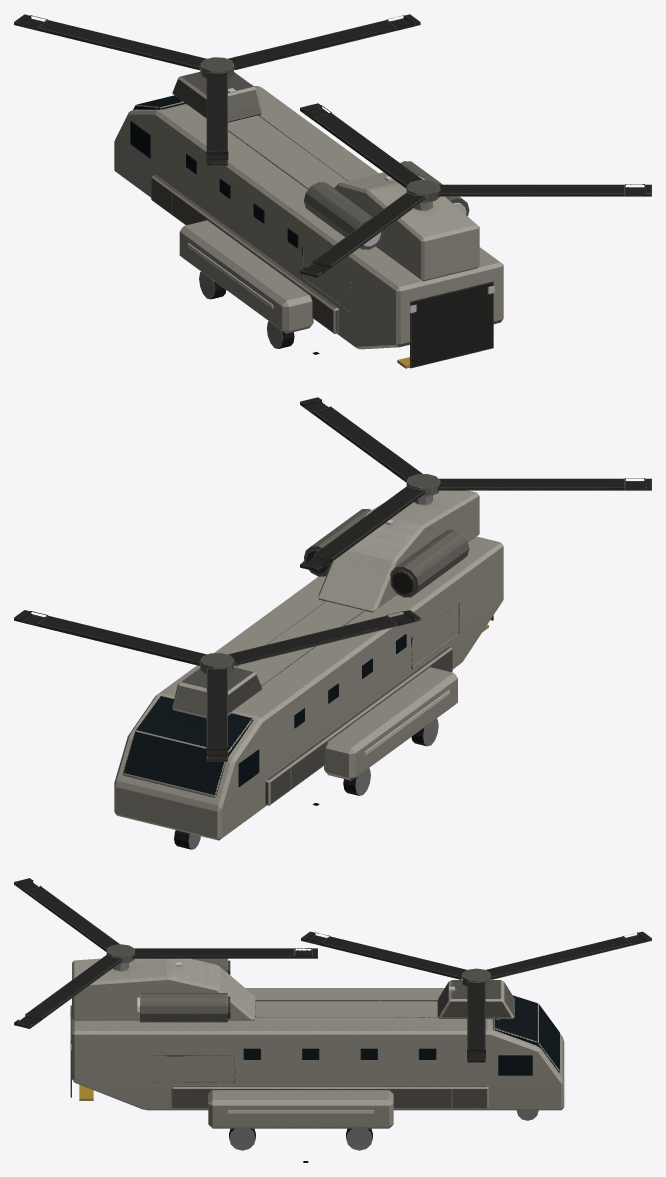
Rendered from ord_ark.fbx.
The picture shows the model from 3 angles, top to bottom: view 1: azimuth 30°, elevation 25°; view 2: azimuth 150°, elevation 25°; view 3: azimuth 270°, elevation 25°; orthographic projection. The views are drawn at different scales.
Visible parts, largest first — view 1: base_bar, tailRotor_bar, rotor_bar, base_glow_running_bar; view 2: base_bar, tailRotor_bar, rotor_bar; view 3: base_bar, tailRotor_bar, rotor_bar, base_glow_running_bar.
Boxes of the visible parts, box(x1,y1,x2,y2) form: base_bar: box(114, 71, 503, 368); tailRotor_bar: box(300, 103, 651, 277); rotor_bar: box(14, 14, 420, 165); base_glow_running_bar: box(187, 88, 494, 312); base_bar: box(114, 490, 503, 849); tailRotor_bar: box(300, 397, 651, 571); rotor_bar: box(14, 610, 420, 761); base_bar: box(70, 958, 564, 1150); tailRotor_bar: box(14, 878, 317, 1028); rotor_bar: box(301, 931, 651, 1062); base_glow_running_bar: box(70, 962, 454, 1113).
Bounding box in the file's own units: 1530 × 957 × 2618.
Materials: 2 (2 with a texture image).
